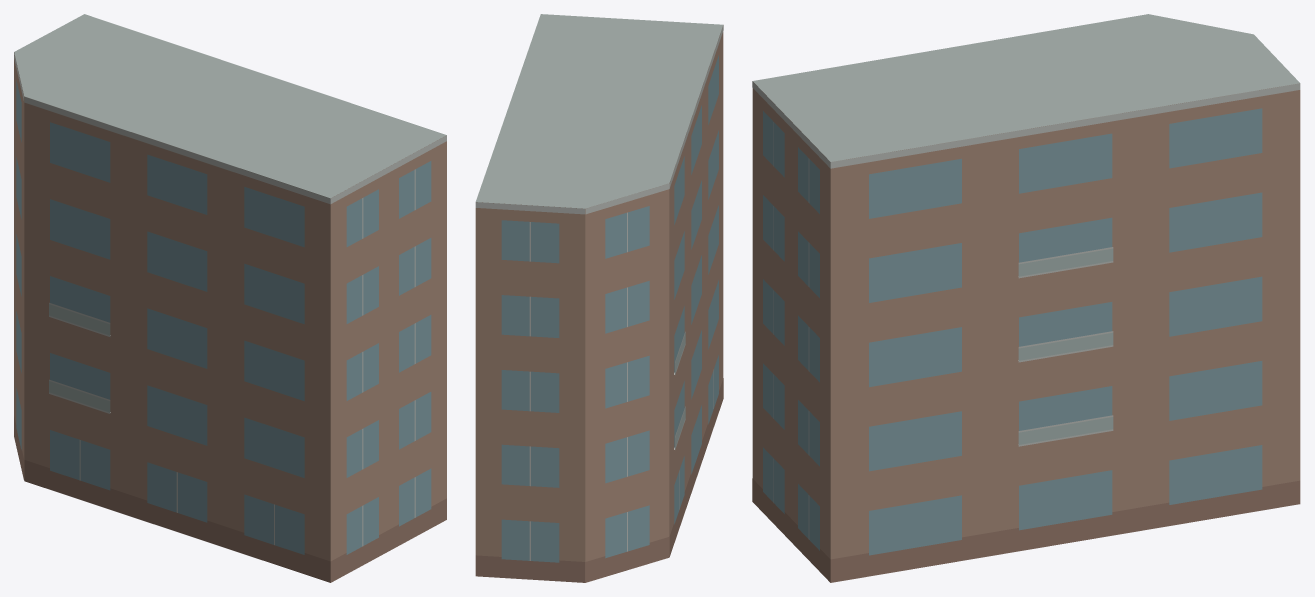
File: survey-upis-33036624.glb
3 renders of one model, left to right at view 1: azimuth 30°, elevation 25°; view 2: azimuth 150°, elevation 25°; view 3: azimuth 270°, elevation 25°, orthographic. The views are drawn at different scales.
Parts seen in each view (by area): view 1: survey-upis-33036624.tmp; view 2: survey-upis-33036624.tmp; view 3: survey-upis-33036624.tmp.
Boxes of the visible parts, left/top/right/bottom form: survey-upis-33036624.tmp: left=14, top=14, right=446, bottom=582; survey-upis-33036624.tmp: left=475, top=14, right=723, bottom=582; survey-upis-33036624.tmp: left=752, top=14, right=1300, bottom=582.
Size of the model in its own units: 11.81 by 15.63 by 18.45.
